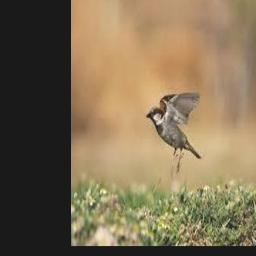Sparrow: (147, 92, 202, 179)
